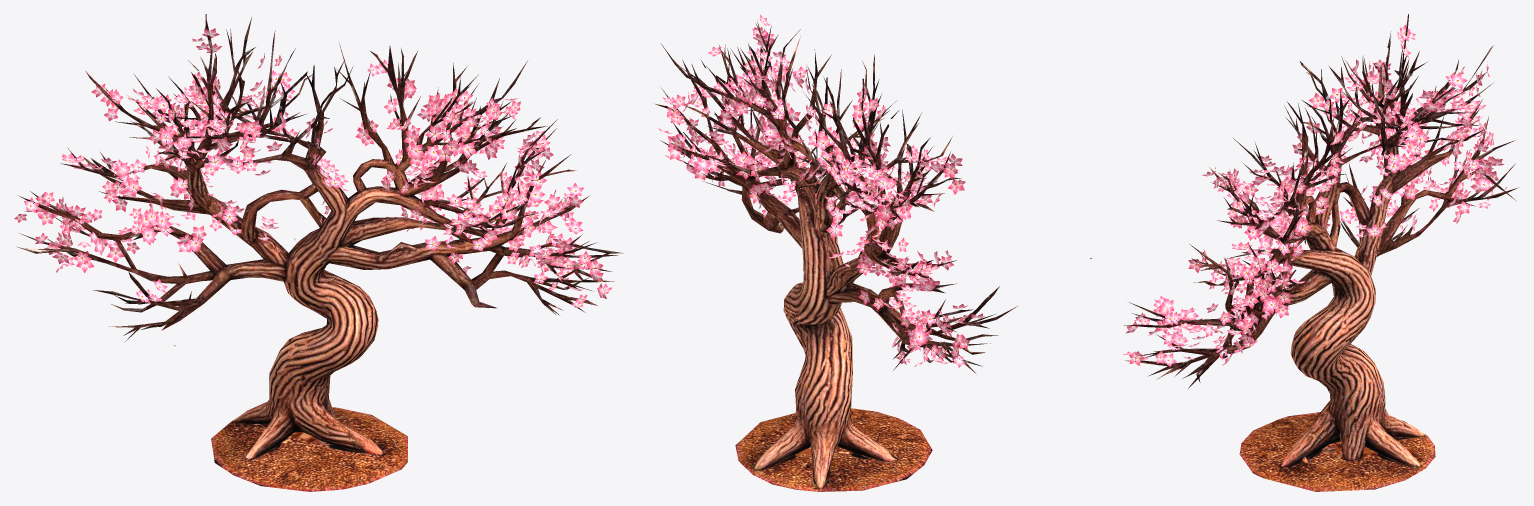
Rendered from t_peach_lo.glb.
3 renders of one model, left to right at view 1: azimuth 30°, elevation 25°; view 2: azimuth 150°, elevation 25°; view 3: azimuth 270°, elevation 25°, orthographic. The views are drawn at different scales.
Visible parts, largest first — view 1: t_peach; view 2: t_peach; view 3: t_peach.
Boxes of the visible parts, x1,y1,x2,y2 form: t_peach: (14, 14, 623, 491); t_peach: (654, 14, 1091, 491); t_peach: (1122, 14, 1518, 491).
Bounding box in the file's own units: 5.67 × 4.98 × 4.42.
2 materials, 2 textured.
